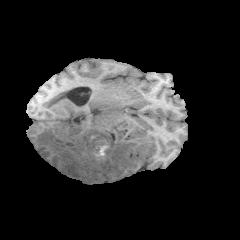glioma: (36, 120, 155, 184)
